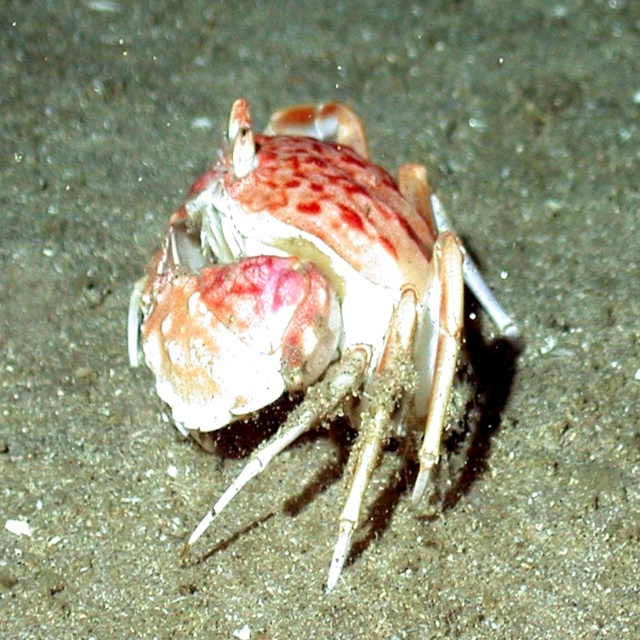Crab: (127, 100, 533, 588)
